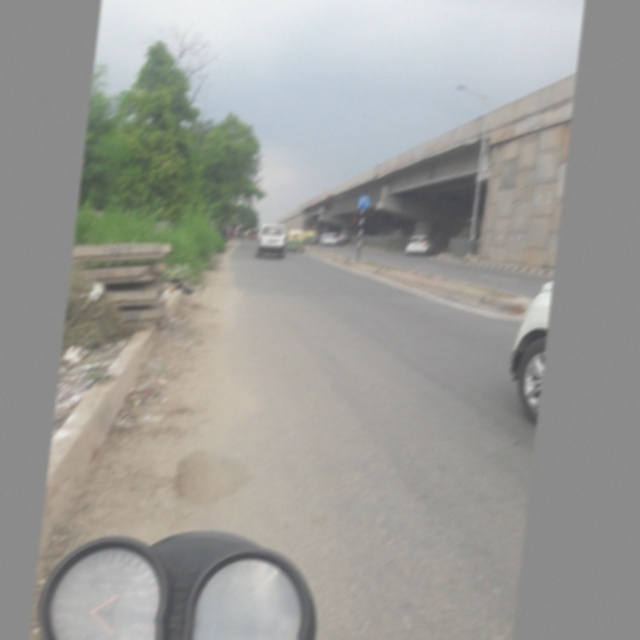Pass_Either_Side: (353, 193, 372, 212)
